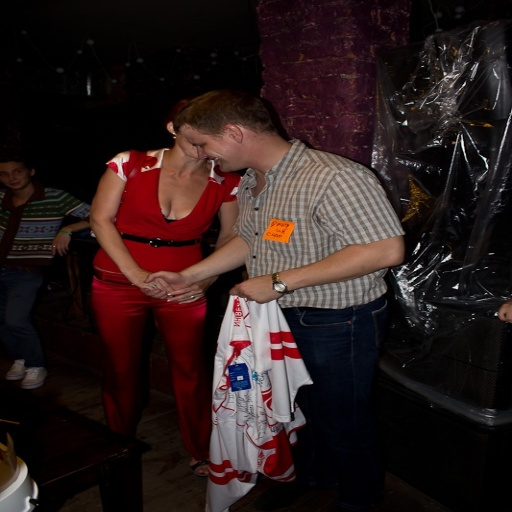hand: (227, 269, 294, 302), (140, 270, 188, 299), (167, 281, 216, 304), (133, 274, 178, 292), (49, 229, 71, 257), (494, 301, 511, 325)
